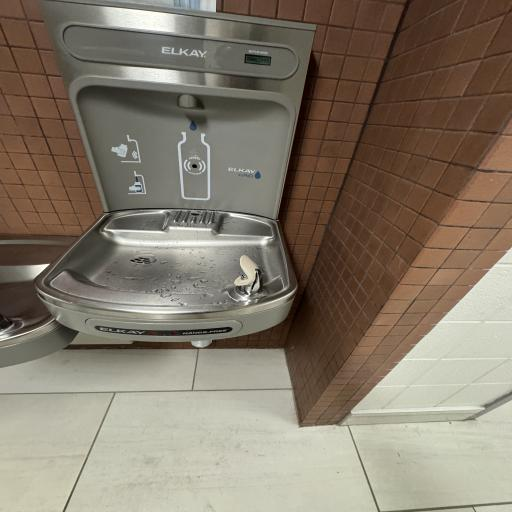water fountain: (39, 0, 304, 356), (0, 219, 83, 368)
